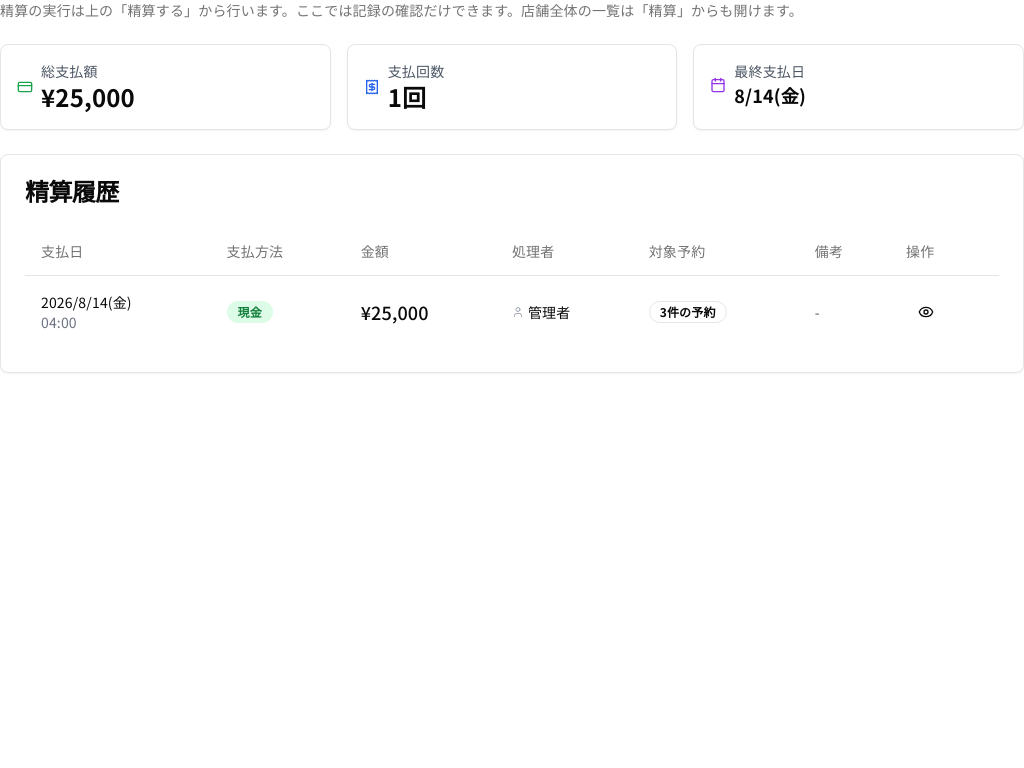
it: PaymentHistoryTab › labels pending, partial, and settled reservations in payment details
Click the button named "入金記録の詳細を表示": (926, 312) [906, 294, 946, 330]
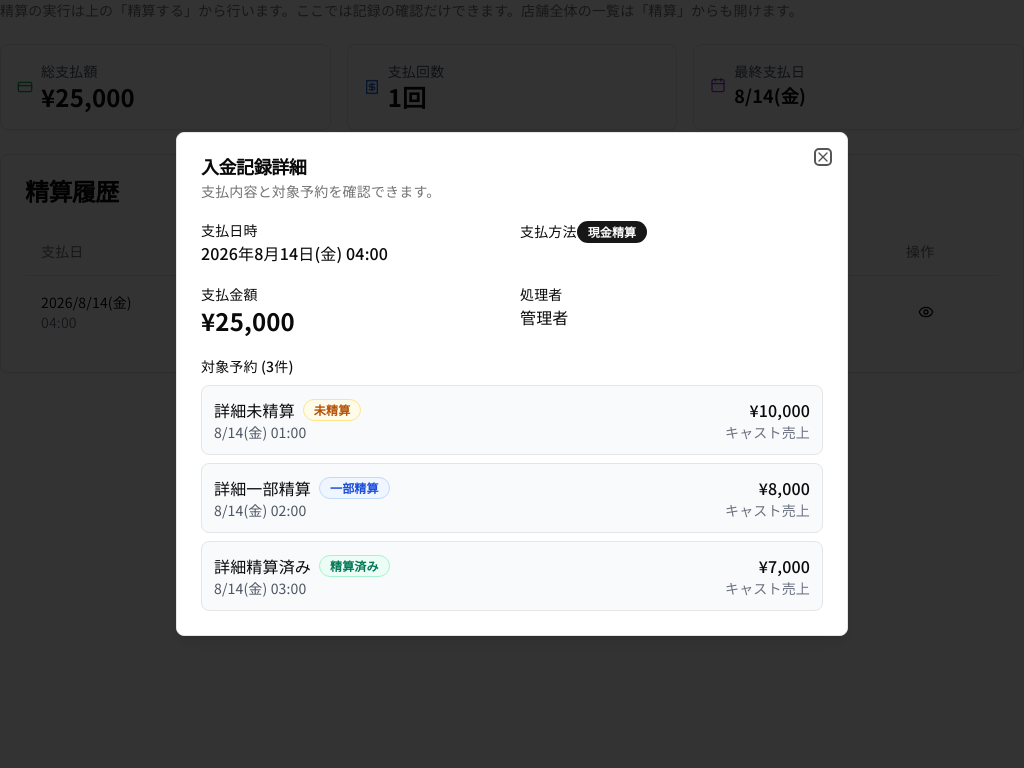
Result: the text "未精算" is shown at [303, 399, 361, 421]
Result: the text "一部精算" is shown at [319, 477, 390, 499]
Result: the text "精算済み" is shown at [319, 555, 390, 577]
